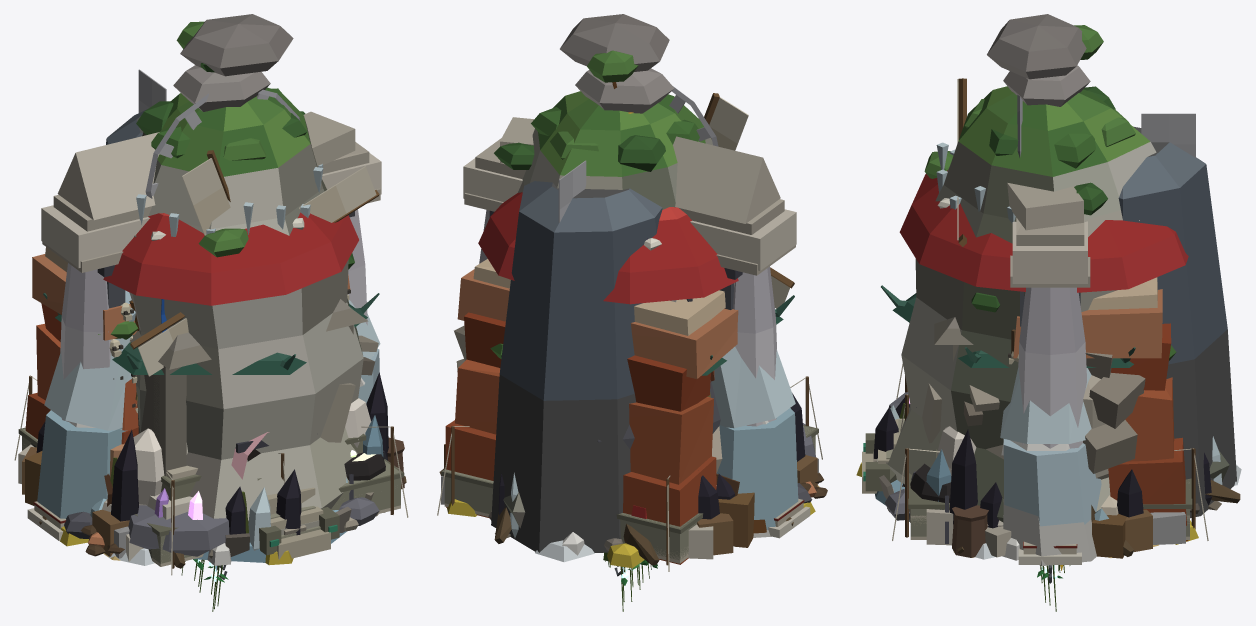
The model's file is themes.glb.
3 renders of one model, left to right at view 1: azimuth 30°, elevation 25°; view 2: azimuth 150°, elevation 25°; view 3: azimuth 270°, elevation 25°, orthographic. The views are drawn at different scales.
Visible parts, largest first — view 1: karst_karst_tower_a, swamp_giant_toadstool_a, ruins_temple_gate_a, peaks_ice_arch_a, volcanic_fumarole_a, meadow_windmill_a, nests_web_gate_a, ossuary_crypt_shrine_a, mines_giant_geode_a, canyon_cliff_dwelling_a, cenote_step_shrine_a, highlands_chorten_great_a (+17 smaller); view 2: frozen_frozen_falls_a, canyon_cliff_dwelling_a, ruins_temple_gate_a, karst_karst_tower_a, peaks_ice_arch_a, swamp_giant_toadstool_a, volcanic_fumarole_a, nests_web_gate_a, cenote_step_shrine_a, meadow_windmill_a, badlands_windpump_a, badlands_covered_wagon_a (+8 smaller); view 3: karst_karst_tower_a, frozen_frozen_falls_a, canyon_cliff_dwelling_a, swamp_giant_toadstool_a, peaks_ice_arch_a, ruins_temple_gate_a, nests_web_gate_a, ruins_colossus_head_a, volcanic_fumarole_a, saltflats_salt_arch_a, volcanic_fire_shrine_a, badlands_covered_wagon_a (+15 smaller).
Boxes of the visible parts, x1=… form: karst_karst_tower_a: x1=98, y1=21, x2=363, y2=535; swamp_giant_toadstool_a: x1=103, y1=212, x2=358, y2=305; ruins_temple_gate_a: x1=18, y1=111, x2=400, y2=561; peaks_ice_arch_a: x1=37, y1=290, x2=380, y2=518; volcanic_fumarole_a: x1=60, y1=14, x2=293, y2=565; meadow_windmill_a: x1=130, y1=150, x2=379, y2=376; nests_web_gate_a: x1=60, y1=209, x2=367, y2=511; ossuary_crypt_shrine_a: x1=130, y1=299, x2=368, y2=476; mines_giant_geode_a: x1=64, y1=488, x2=379, y2=556; canyon_cliff_dwelling_a: x1=25, y1=247, x2=350, y2=477; cenote_step_shrine_a: x1=18, y1=427, x2=404, y2=563; highlands_chorten_great_a: x1=22, y1=442, x2=400, y2=566; frozen_frozen_falls_a: x1=491, y1=181, x2=662, y2=552; canyon_cliff_dwelling_a: x1=445, y1=259, x2=738, y2=564; ruins_temple_gate_a: x1=463, y1=117, x2=816, y2=559; karst_karst_tower_a: x1=490, y1=50, x2=712, y2=528; peaks_ice_arch_a: x1=711, y1=346, x2=798, y2=529; swamp_giant_toadstool_a: x1=478, y1=192, x2=738, y2=518; volcanic_fumarole_a: x1=447, y1=14, x2=815, y2=568; nests_web_gate_a: x1=479, y1=210, x2=776, y2=426; cenote_step_shrine_a: x1=441, y1=425, x2=818, y2=560; meadow_windmill_a: x1=704, y1=93, x2=794, y2=308; badlands_windpump_a: x1=558, y1=86, x2=718, y2=222; badlands_covered_wagon_a: x1=697, y1=455, x2=817, y2=555; karst_karst_tower_a: x1=877, y1=25, x2=1229, y2=522; frozen_frozen_falls_a: x1=875, y1=126, x2=1236, y2=521; canyon_cliff_dwelling_a: x1=1013, y1=277, x2=1188, y2=541; swamp_giant_toadstool_a: x1=899, y1=170, x2=1188, y2=292; peaks_ice_arch_a: x1=1000, y1=367, x2=1101, y2=526; ruins_temple_gate_a: x1=926, y1=183, x2=1090, y2=557; nests_web_gate_a: x1=987, y1=287, x2=1118, y2=526; ruins_colossus_head_a: x1=922, y1=352, x2=1185, y2=544; volcanic_fumarole_a: x1=856, y1=14, x2=1198, y2=557; saltflats_salt_arch_a: x1=1001, y1=440, x2=1133, y2=565; volcanic_fire_shrine_a: x1=873, y1=407, x2=1143, y2=524; badlands_covered_wagon_a: x1=952, y1=505, x2=1152, y2=557.
Bounding box in the file's own units: 3.24 × 5.4 × 3.17.
